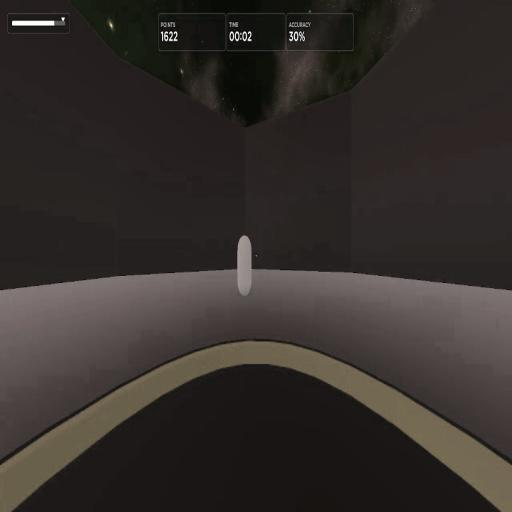Crosshair: (255, 254, 257, 257)
Target: (237, 234, 252, 296)
